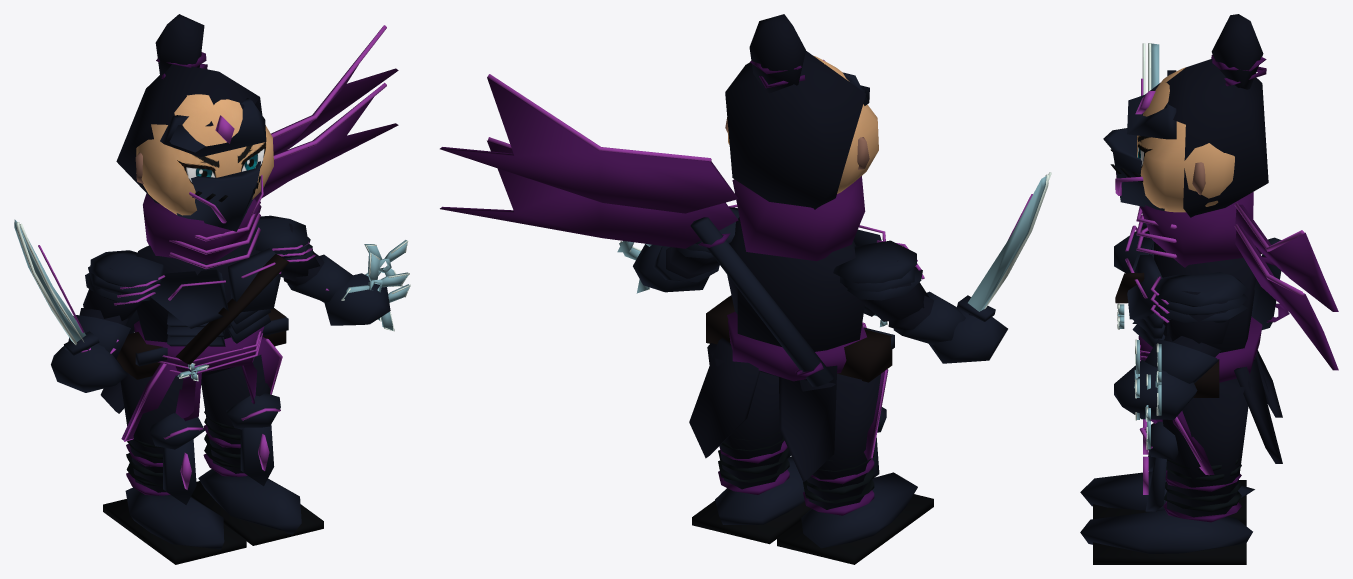
File: ninja.glb
3 views of the same model, side by side, from view 1: azimuth 30°, elevation 25°; view 2: azimuth 150°, elevation 25°; view 3: azimuth 270°, elevation 25° (orthographic). The views are drawn at different scales.
Visible parts, largest first — view 1: Head_Geometry, Body_Geometry, Leg_L_Geometry, Leg_R_Geometry, Arm_R_Geometry, Arm_L_Geometry, Weapon_Cutlass_Geometry, Weapon_Pistol_Geometry; view 2: Head_Geometry, Body_Geometry, Leg_R_Geometry, Leg_L_Geometry, Arm_R_Geometry, Arm_L_Geometry, Weapon_Cutlass_Geometry; view 3: Head_Geometry, Leg_L_Geometry, Body_Geometry, Arm_L_Geometry, Leg_R_Geometry, Weapon_Pistol_Geometry, Weapon_Cutlass_Geometry, Arm_R_Geometry.
Boxes of the visible parts, x1,y1,x2,y2 form: Head_Geometry: (116, 14, 398, 268); Body_Geometry: (100, 229, 289, 441); Leg_L_Geometry: (191, 346, 323, 545); Leg_R_Geometry: (103, 370, 246, 564); Arm_R_Geometry: (51, 250, 165, 392); Arm_L_Geometry: (255, 215, 390, 325); Weapon_Cutlass_Geometry: (14, 219, 99, 355); Weapon_Pistol_Geometry: (341, 240, 410, 331); Head_Geometry: (440, 14, 878, 261); Body_Geometry: (689, 217, 894, 482); Leg_R_Geometry: (777, 374, 933, 564); Leg_L_Geometry: (692, 343, 811, 544); Arm_R_Geometry: (833, 240, 1007, 363); Arm_L_Geometry: (633, 204, 739, 292); Weapon_Cutlass_Geometry: (957, 172, 1051, 321); Head_Geometry: (1103, 14, 1338, 370); Leg_L_Geometry: (1080, 378, 1252, 564); Body_Geometry: (1115, 225, 1289, 475); Arm_L_Geometry: (1114, 272, 1247, 419); Leg_R_Geometry: (1080, 419, 1254, 520); Weapon_Pistol_Geometry: (1134, 339, 1161, 449); Weapon_Cutlass_Geometry: (1141, 43, 1159, 228); Arm_R_Geometry: (1114, 228, 1143, 273).
Size of the model in its own units: 2.43 by 2.4 by 1.1.
2 materials, 2 textured.
